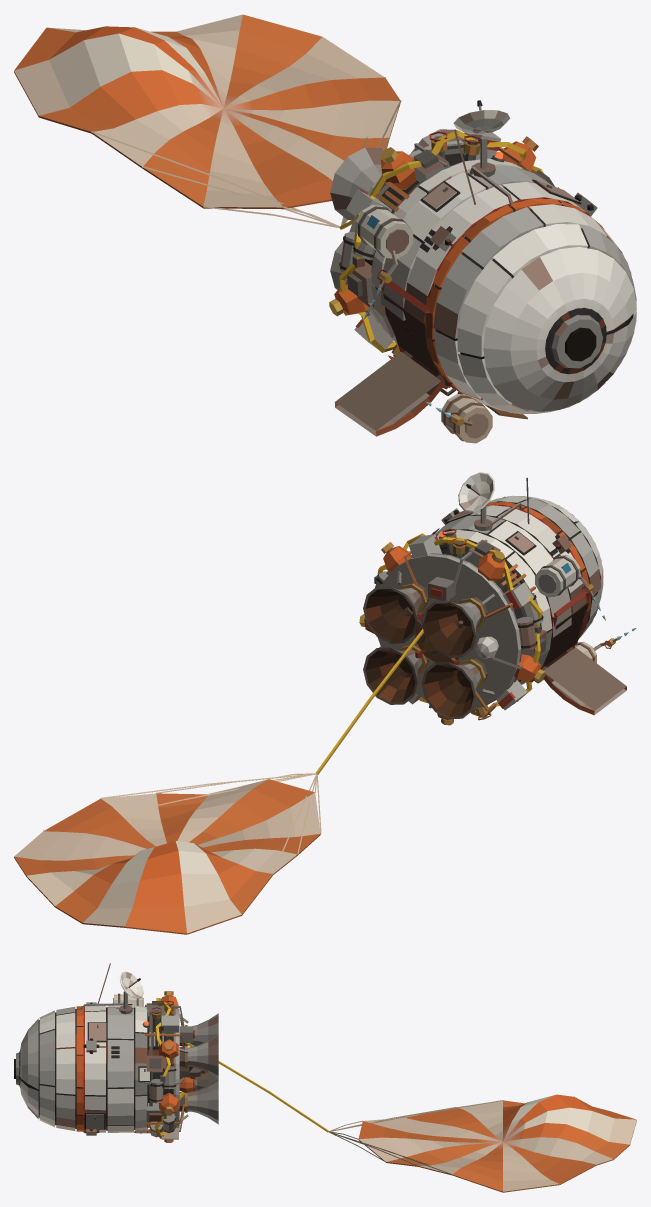
The model's file is pod.glb.
The picture shows the model from 3 angles, top to bottom: view 1: azimuth 30°, elevation 25°; view 2: azimuth 150°, elevation 25°; view 3: azimuth 270°, elevation 25°; orthographic projection. The views are drawn at different scales.
Parts seen in each view (by area): view 1: Pod, Pod_Chute; view 2: Pod, Pod_Chute; view 3: Pod, Pod_Chute.
Part boxes in pixels (bbox=[...]): Pod: bbox=[329, 100, 636, 443]; Pod_Chute: bbox=[14, 14, 401, 229]; Pod: bbox=[359, 472, 636, 725]; Pod_Chute: bbox=[14, 600, 448, 934]; Pod: bbox=[14, 963, 218, 1142]; Pod_Chute: bbox=[185, 1043, 636, 1192].
Size of the model in its own units: 4.85 by 3.57 by 12.14.
